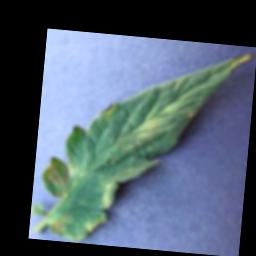Leaf_Mold: (134, 89, 203, 151), (84, 216, 106, 237), (101, 100, 116, 116)
